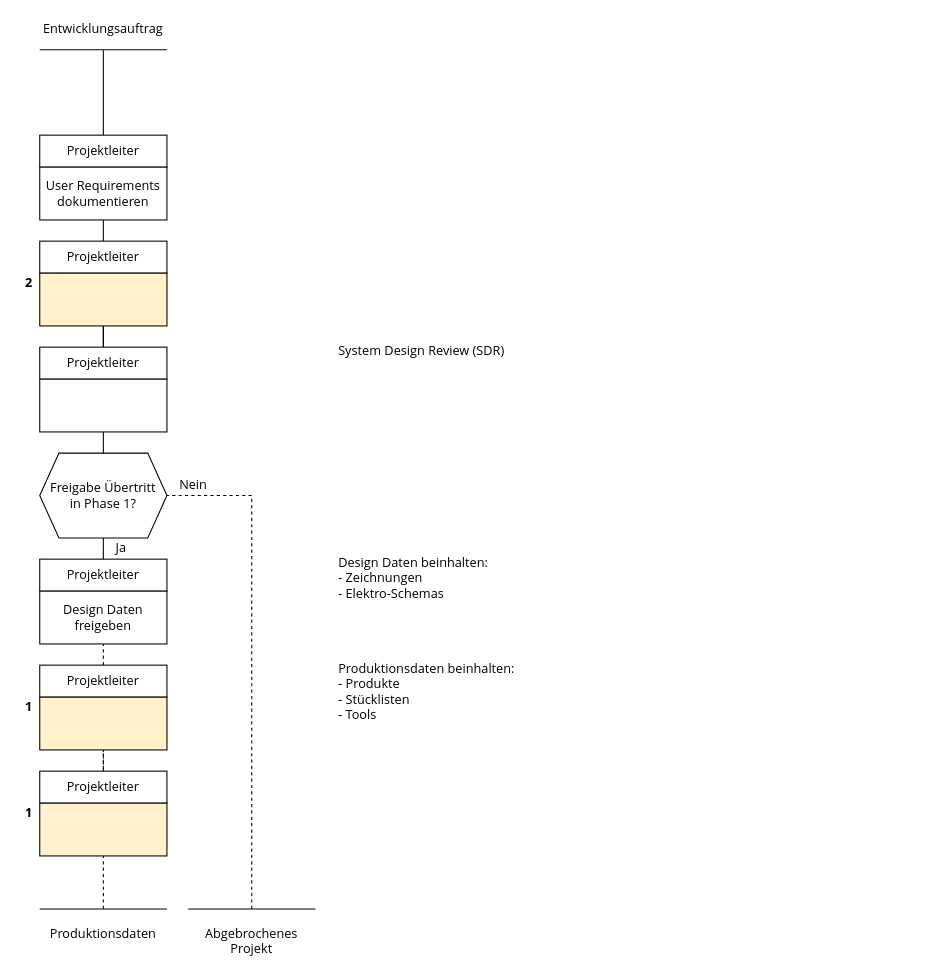
Image size: 948x979. Some labels were removed from this diagram. Here are the shapes that lost their labels. From the top down, the centre of each, then its label:
At (x=103, y=299): "Projektplanung erstellen".
At (x=103, y=405): "System Design Review durchführen".
At (x=103, y=723): "Produktionsdaten definieren".
At (x=103, y=829): "Arbeitsplätze einrichten".
